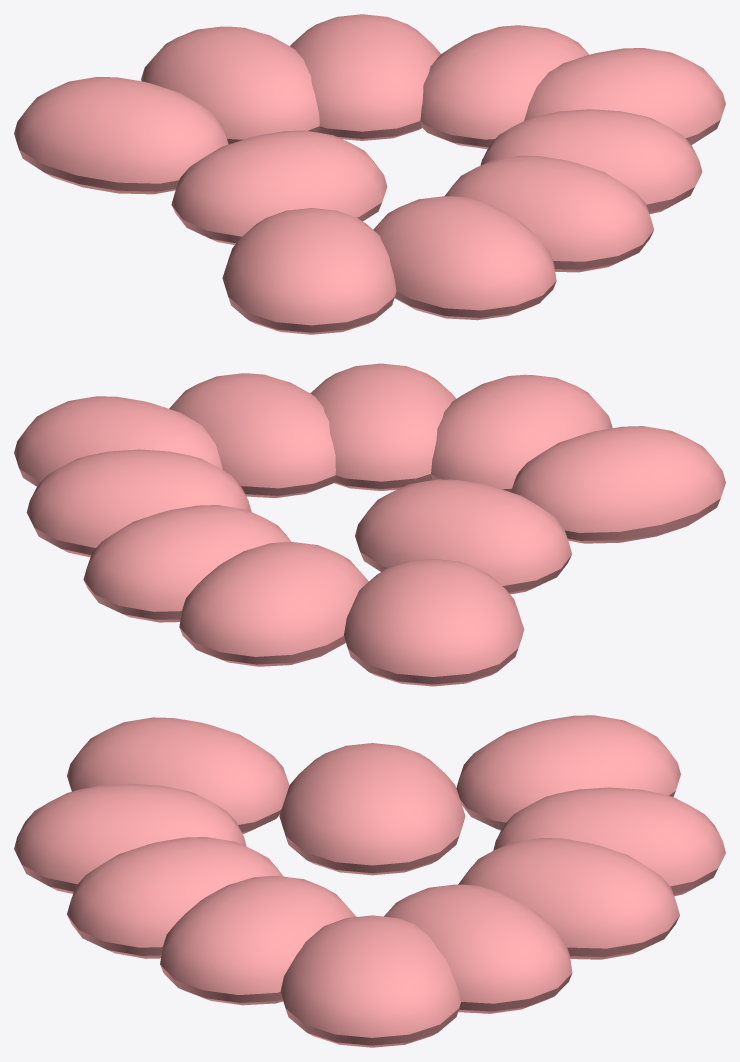
Rendered from CakeFillMeringuePink.glb.
The picture shows the model from 3 angles, top to bottom: view 1: azimuth 30°, elevation 25°; view 2: azimuth 150°, elevation 25°; view 3: azimuth 270°, elevation 25°; orthographic projection. The views are drawn at different scales.
Parts seen in each view (by area): view 1: Cube.031, Cube.027, Cube.026, Cube.029, Cube.025, Cube.033, Cube.032, Cube.034, Cube.024, Cube.035; view 2: Cube.027, Cube.031, Cube.032, Cube.029, Cube.034, Cube.024, Cube.033, Cube.025, Cube.026, Cube.035; view 3: Cube.029, Cube.035, Cube.033, Cube.024, Cube.031, Cube.034, Cube.027, Cube.025, Cube.026, Cube.032.
Boxes of the visible parts, bbox=[...] form: Cube.031: bbox=[14, 77, 228, 194]; Cube.027: bbox=[222, 208, 396, 334]; Cube.026: bbox=[373, 196, 556, 320]; Cube.029: bbox=[171, 130, 387, 244]; Cube.025: bbox=[445, 155, 653, 272]; Cube.033: bbox=[290, 14, 440, 140]; Cube.032: bbox=[141, 26, 319, 144]; Cube.034: bbox=[420, 25, 589, 148]; Cube.024: bbox=[480, 109, 702, 213]; Cube.035: bbox=[524, 48, 725, 144]; Cube.027: bbox=[511, 426, 725, 543]; Cube.031: bbox=[344, 559, 524, 686]; Cube.032: bbox=[179, 542, 368, 666]; Cube.029: bbox=[355, 479, 571, 594]; Cube.034: bbox=[26, 449, 251, 557]; Cube.024: bbox=[169, 373, 335, 498]; Cube.033: bbox=[83, 505, 291, 622]; Cube.025: bbox=[310, 363, 456, 490]; Cube.026: bbox=[431, 374, 612, 492]; Cube.035: bbox=[14, 396, 222, 486]; Cube.029: bbox=[279, 743, 465, 875]; Cube.035: bbox=[280, 915, 460, 1047]; Cube.033: bbox=[458, 838, 679, 959]; Cube.024: bbox=[160, 876, 356, 1005]; Cube.031: bbox=[456, 715, 680, 830]; Cube.034: bbox=[384, 884, 572, 1013]; Cube.027: bbox=[67, 717, 289, 833]; Cube.025: bbox=[67, 837, 283, 958]; Cube.026: bbox=[14, 783, 246, 893]; Cube.032: bbox=[493, 787, 725, 896].
Bounding box in the file's own units: 1.55 × 0.1988 × 1.57.
